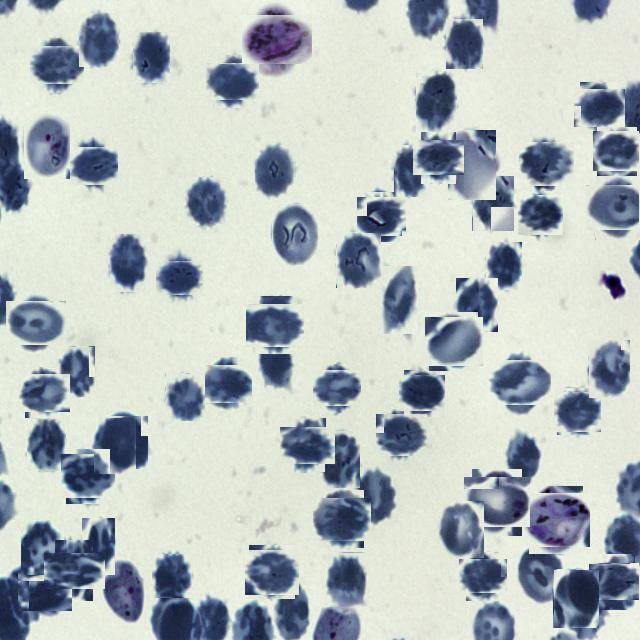difficult: (247, 9, 307, 69)
red blood cell: (468, 474, 526, 532), (448, 130, 496, 200), (492, 355, 546, 410), (426, 314, 481, 368), (272, 203, 318, 265), (517, 545, 564, 605), (590, 180, 640, 235), (553, 569, 599, 628), (10, 298, 62, 350), (439, 502, 484, 560), (316, 494, 368, 544), (250, 300, 301, 350), (416, 71, 457, 133), (336, 232, 381, 288), (247, 547, 297, 597), (521, 139, 571, 189), (102, 415, 148, 469), (588, 339, 630, 398), (21, 520, 66, 575), (319, 432, 362, 489), (382, 266, 418, 334), (355, 468, 398, 524), (50, 546, 99, 595), (64, 452, 112, 502), (472, 175, 514, 231), (94, 418, 136, 474), (325, 552, 367, 607), (22, 566, 70, 614), (567, 581, 606, 640), (456, 278, 498, 332), (78, 12, 119, 67), (378, 411, 425, 458), (594, 558, 640, 606), (110, 235, 148, 292), (34, 42, 80, 89), (256, 145, 296, 198), (202, 362, 248, 408), (284, 422, 330, 468), (210, 59, 256, 104), (594, 129, 640, 174), (27, 419, 66, 471), (22, 370, 67, 415), (576, 86, 622, 130), (556, 389, 600, 434), (359, 195, 404, 239), (416, 136, 461, 180), (132, 31, 170, 83), (186, 177, 226, 226), (445, 18, 483, 69), (57, 346, 95, 397), (71, 144, 115, 188), (165, 374, 205, 422), (82, 518, 115, 575), (518, 194, 562, 236), (259, 336, 294, 388), (316, 367, 358, 410), (506, 433, 542, 483), (152, 554, 192, 598), (486, 242, 522, 290), (462, 556, 504, 597), (159, 257, 200, 298), (402, 372, 442, 414), (394, 145, 426, 197)
ring: (24, 114, 70, 179), (102, 560, 144, 623)
trophozoite: (526, 490, 586, 550)
